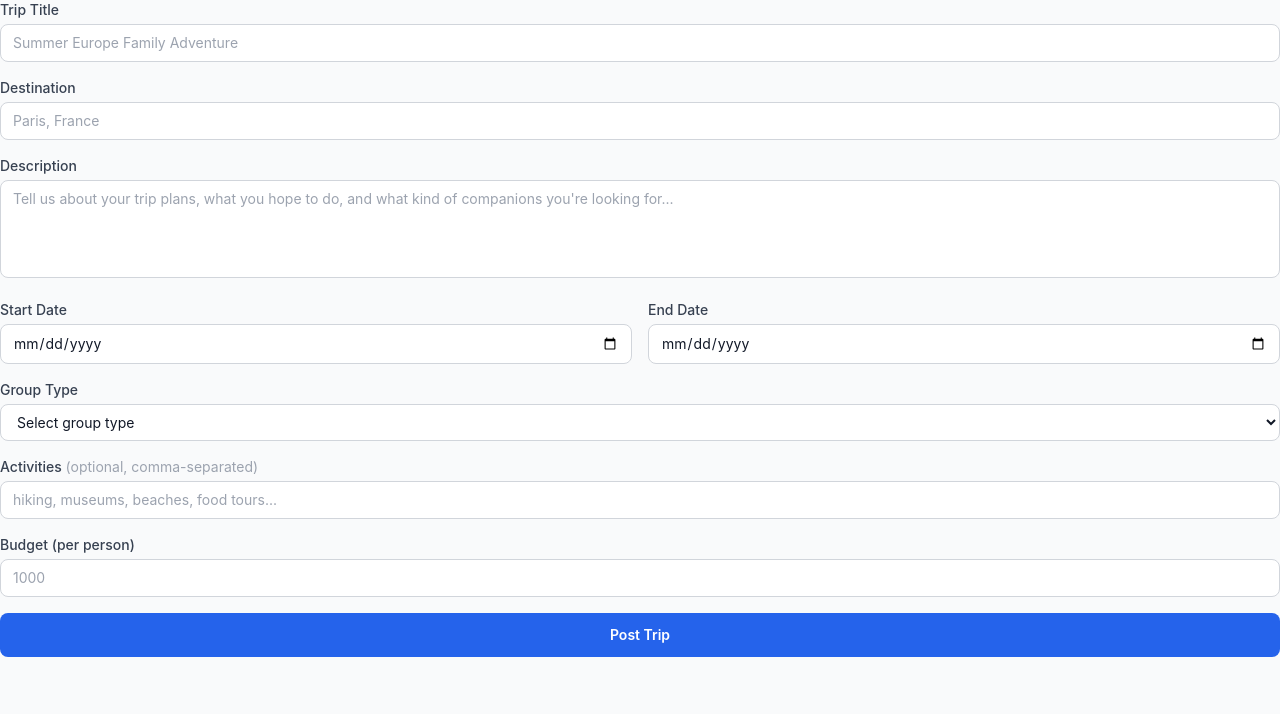
TripForm › shows validation errors on empty submit
The image size is (1280, 714).
Click the button "Post Trip" at [640, 635], box [0,613,1279,657]
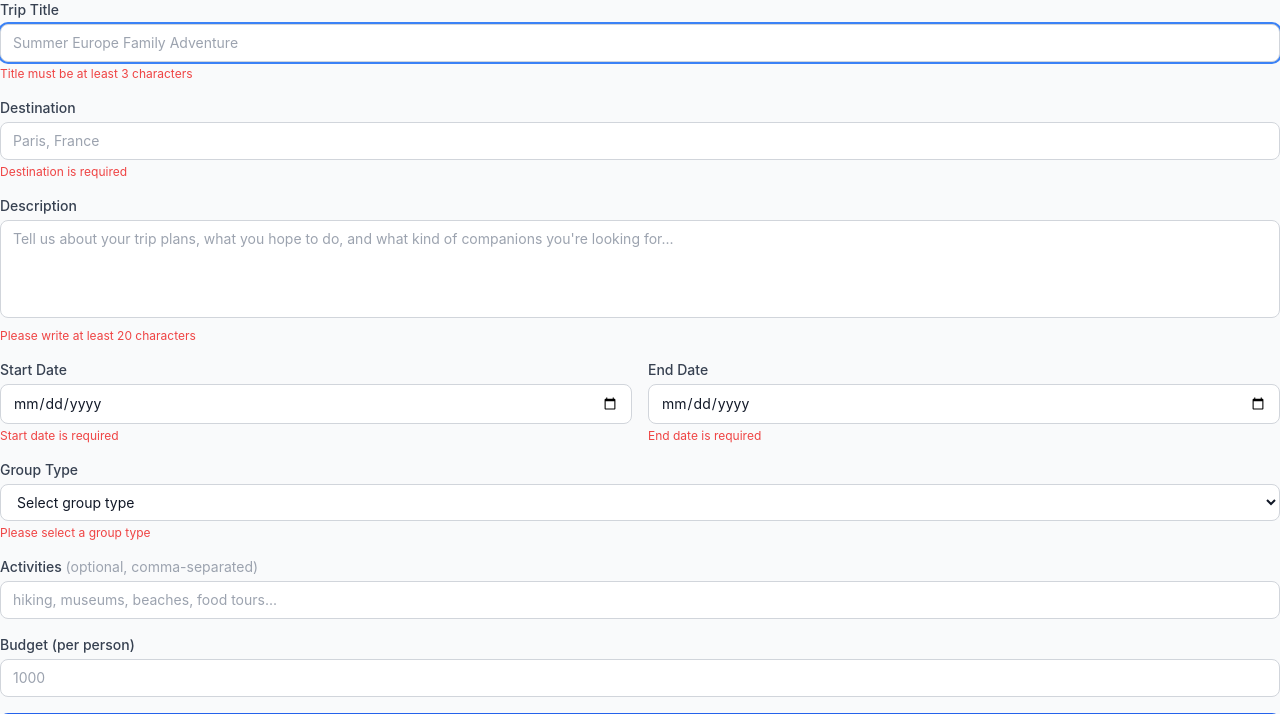
Check: the text "Title must be at least 3 characters" is shown, box [0,66,192,81]
